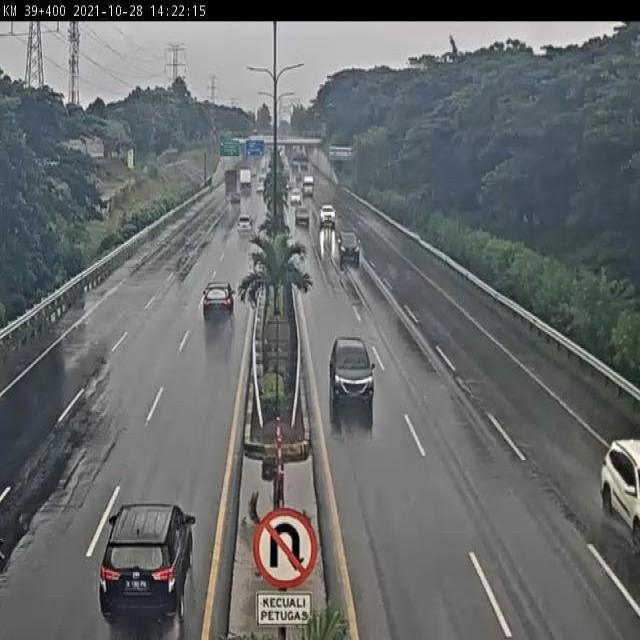car: (100, 503, 197, 624), (328, 334, 377, 410), (201, 280, 236, 325), (336, 229, 364, 264), (233, 218, 254, 242)
